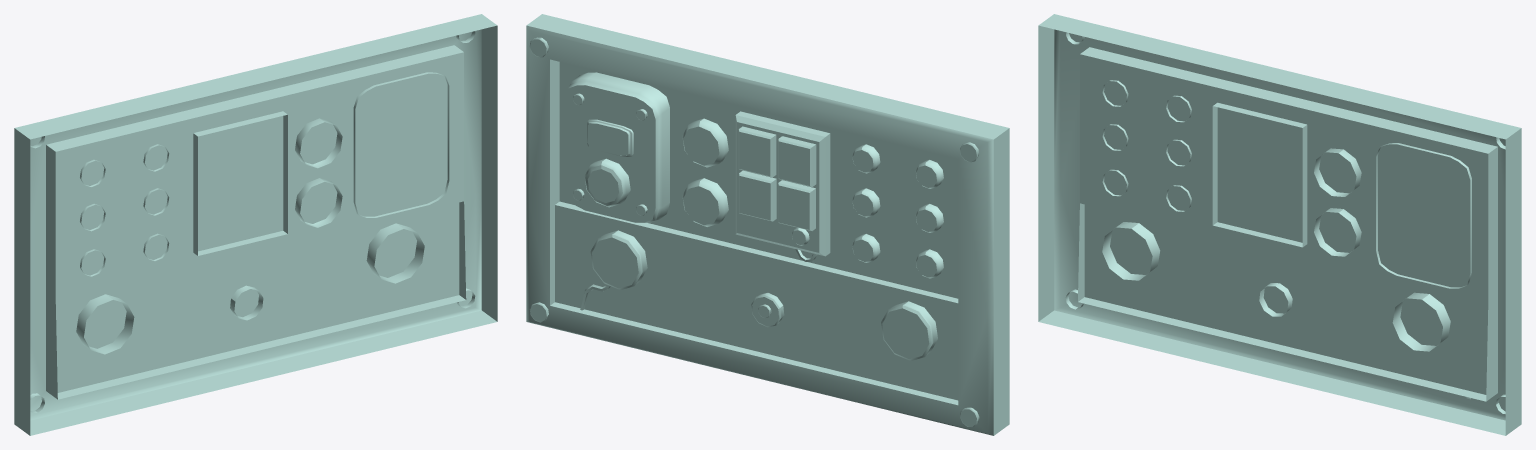
File: controlpanel1.fbx
The picture shows the model from 3 angles, left to right: view 1: azimuth 30°, elevation 25°; view 2: azimuth 150°, elevation 25°; view 3: azimuth 330°, elevation 25°; orthographic projection.
Visible parts, largest first — view 1: AP_controlpanel1; view 2: AP_controlpanel1; view 3: AP_controlpanel1.
Boxes of the visible parts, bbox=[...] form: AP_controlpanel1: bbox=[14, 14, 497, 435]; AP_controlpanel1: bbox=[526, 14, 1009, 435]; AP_controlpanel1: bbox=[1038, 14, 1521, 435].
Size of the model in its own units: 93.64 by 56.75 by 9.34.
